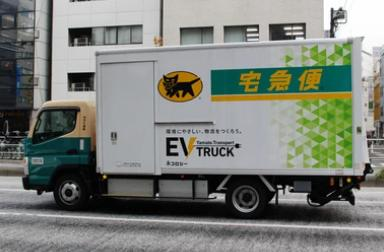vehicle: (23, 36, 373, 218)
